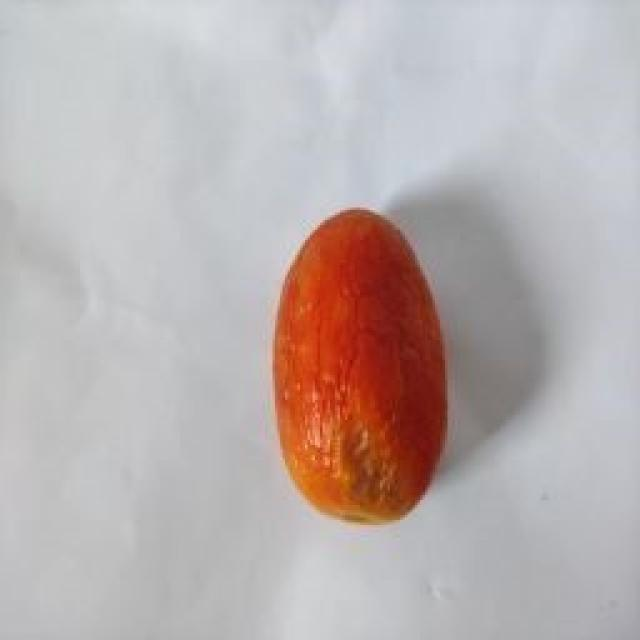overripe: (270, 204, 453, 525)
